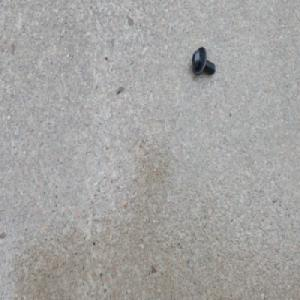BoltWasher: (189, 44, 214, 76)
